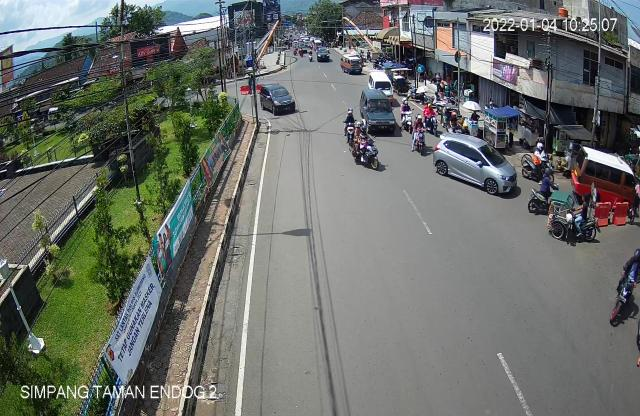Becak: (546, 188, 599, 247)
Mobil: (432, 126, 521, 204), (573, 144, 640, 212), (358, 86, 398, 140), (259, 83, 298, 116)
Motor: (607, 244, 640, 334), (350, 119, 380, 172), (523, 140, 554, 186), (408, 115, 430, 154), (341, 105, 358, 147), (399, 100, 418, 134), (419, 100, 439, 132)
